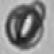correct: (2, 1, 48, 50)
